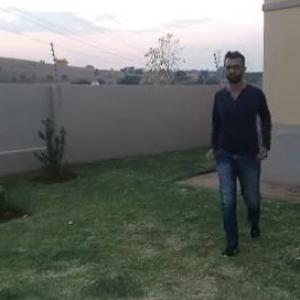follow: (208, 49, 270, 232)
